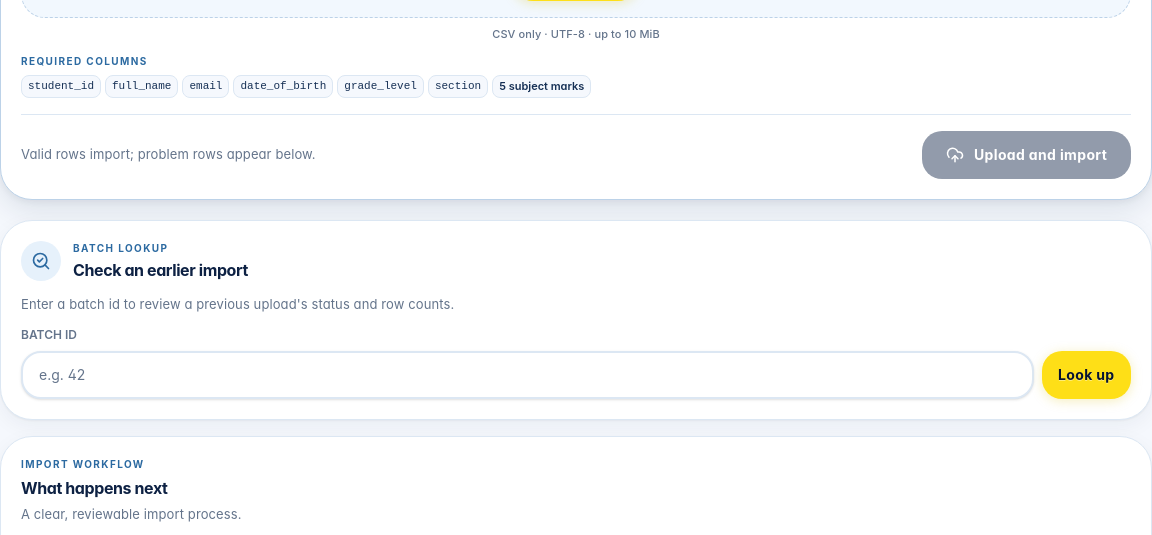
Test case: ImportPage › renders failure state when a batch lookup returns not found
The width and height of the screenshot is (1152, 535).
(page scrolled)
Type "999" into the field labelled "Batch id" at [528, 375], box 21,351 -> 1034,399
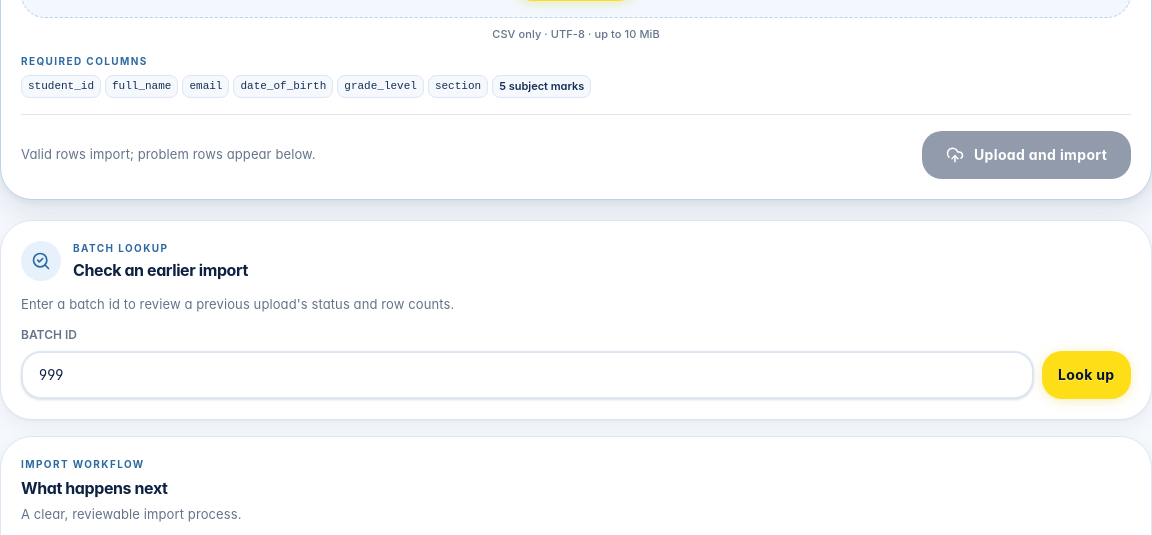
Click the button "Look up" at [1087, 375], box 1042,351 -> 1131,399
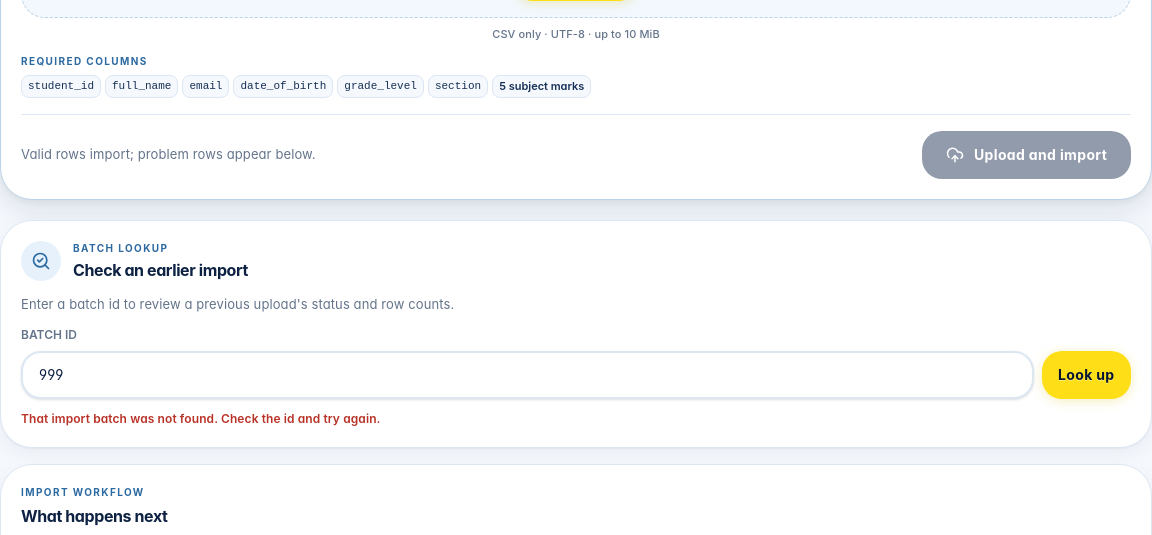
Expected: the text "That import batch was not found. Check the id and try again." is shown, 21,411 -> 380,426
